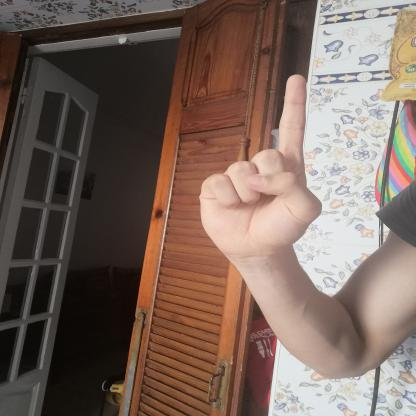BAA: (186, 65, 336, 276)
